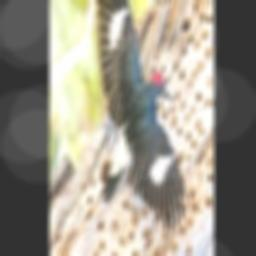Woodpecker: (96, 0, 187, 231)
